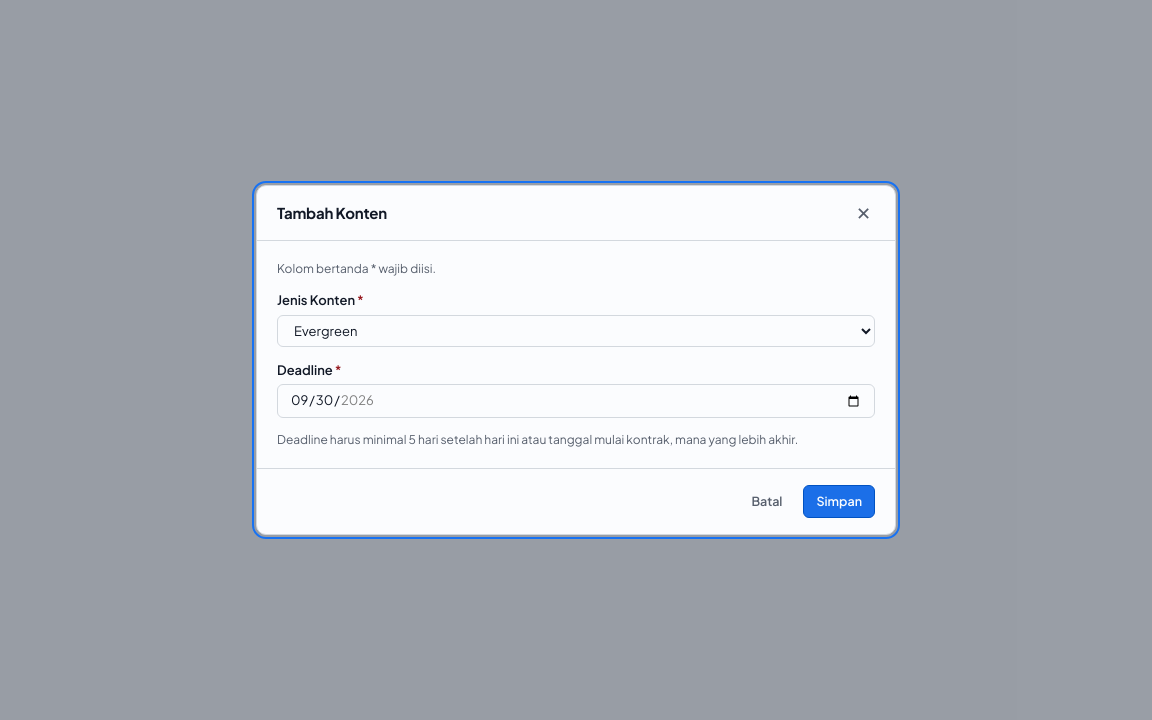
Test: AddContentModal › clears only the error of the field being corrected
The width and height of the screenshot is (1152, 720).
Select "Specific" in the dropdown labelled "Jenis Konten": (576, 331) top-left (277, 315), bottom-right (875, 347)
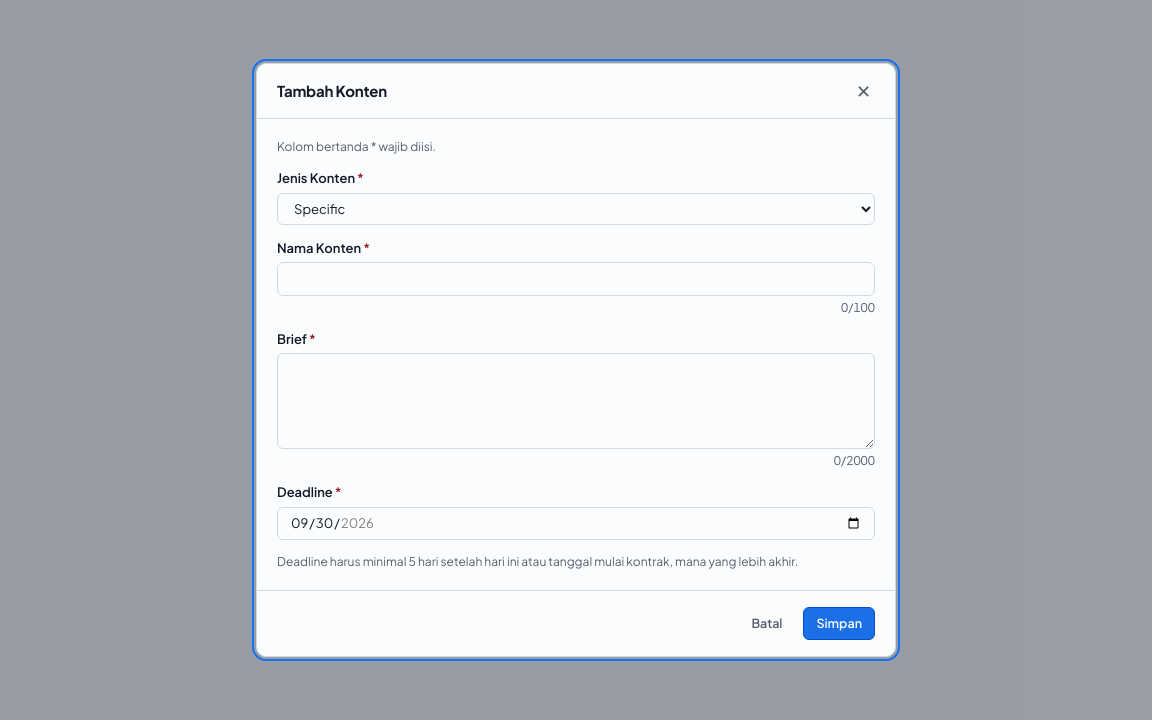
Click the button "Simpan": (839, 624) top-left (803, 607), bottom-right (875, 640)
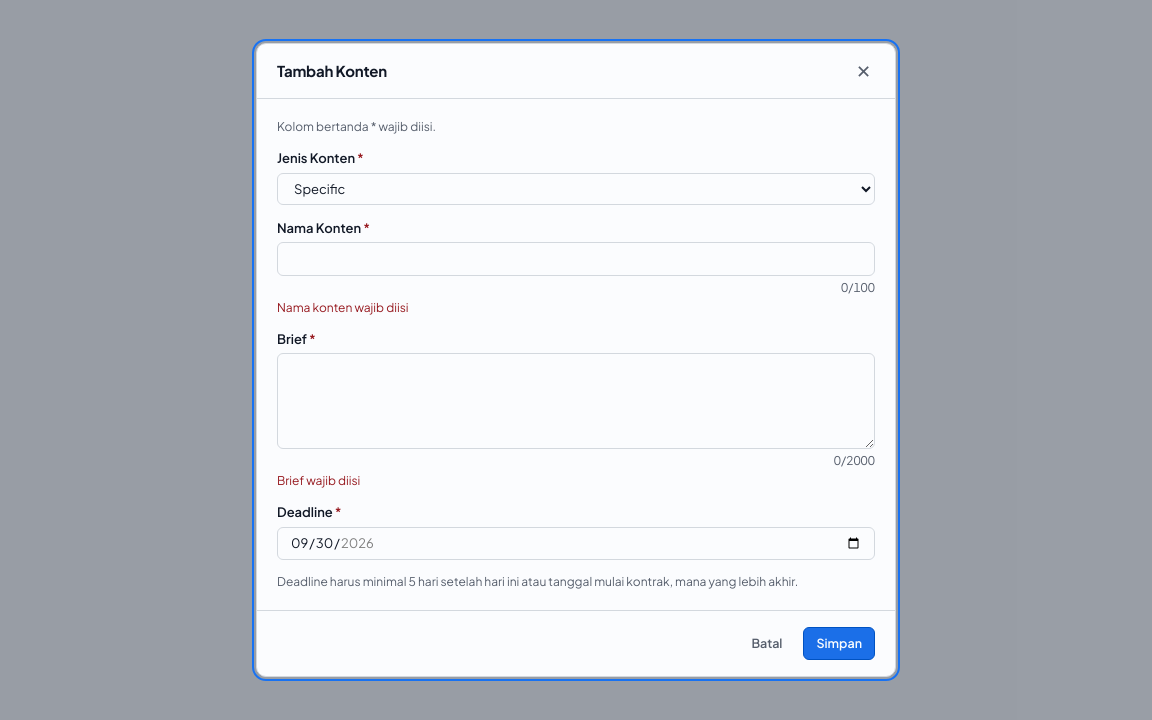
In the field labelled "Nama Konten": (576, 259) top-left (277, 242), bottom-right (875, 276), type "Promo"
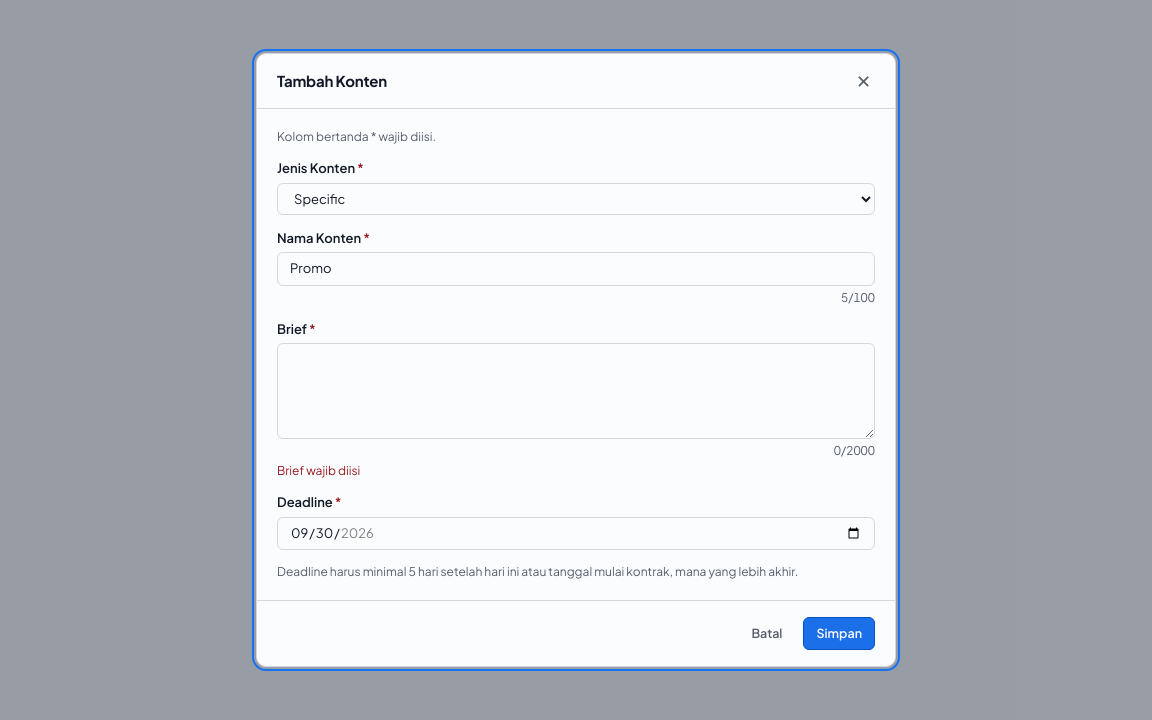
Check: the text "Brief wajib diisi" is shown, box top-left (277, 463), bottom-right (360, 478)
Check: the text "Nama konten wajib diisi" is gone
